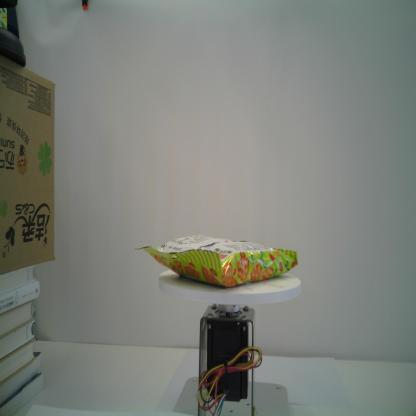Puffed Food: (134, 234, 298, 288)
